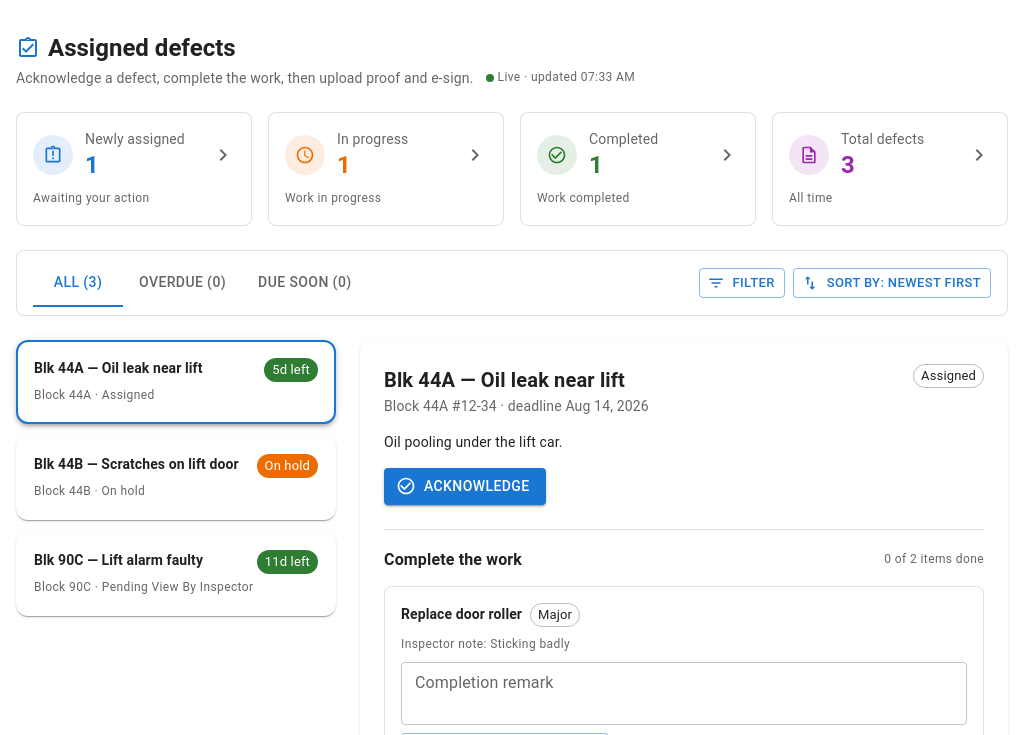
Test: ContractorInboxPage › acknowledge › acknowledging a defect reports it and refetches the inbox
This screenshot has width=1024, height=735.
Click the button "Acknowledge" at x=465, y=486, box [384,468,546,504]
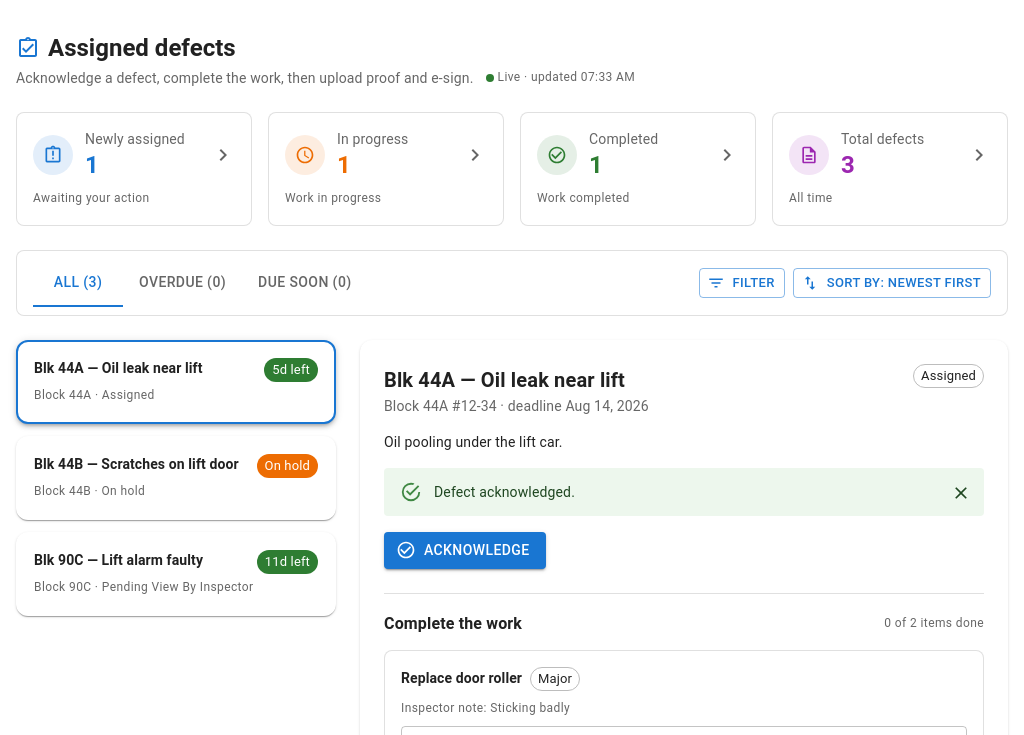
Now the text "Defect acknowledged." is shown, box [434,484,575,500]
